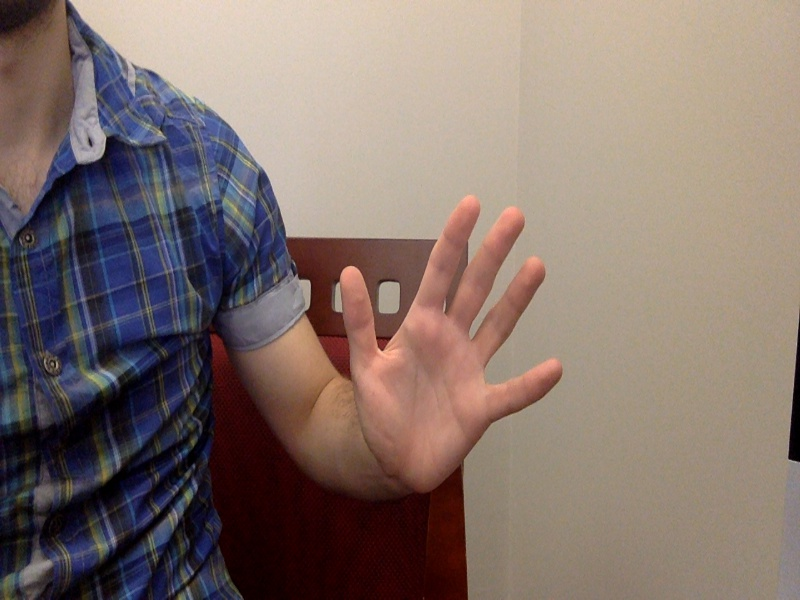5-hand: (339, 198, 567, 493)
